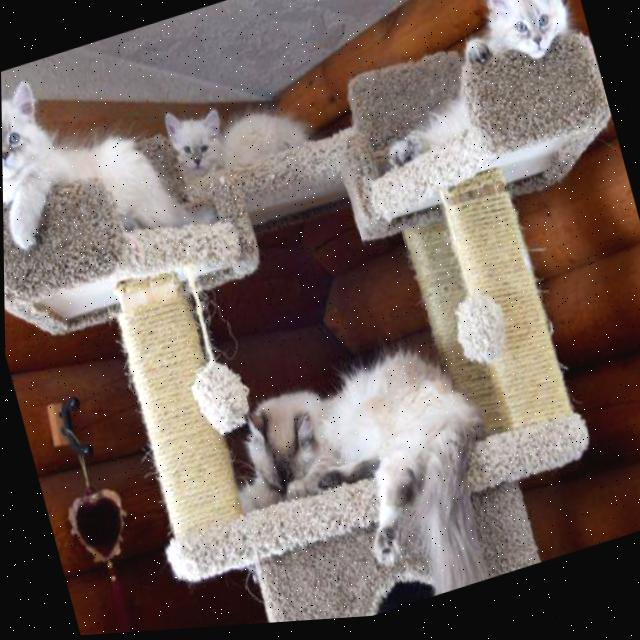Neva Masquerade: (209, 320, 525, 629), (0, 27, 185, 286), (152, 67, 320, 195), (441, 0, 581, 91)
